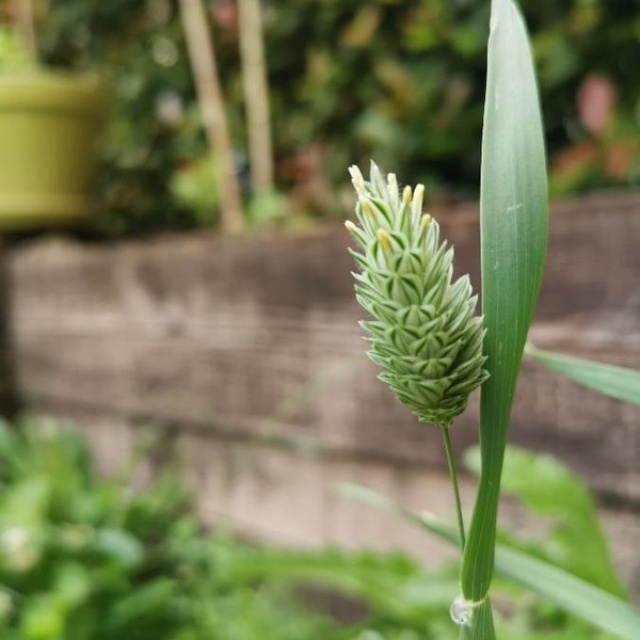obstacle: (325, 17, 546, 618)
